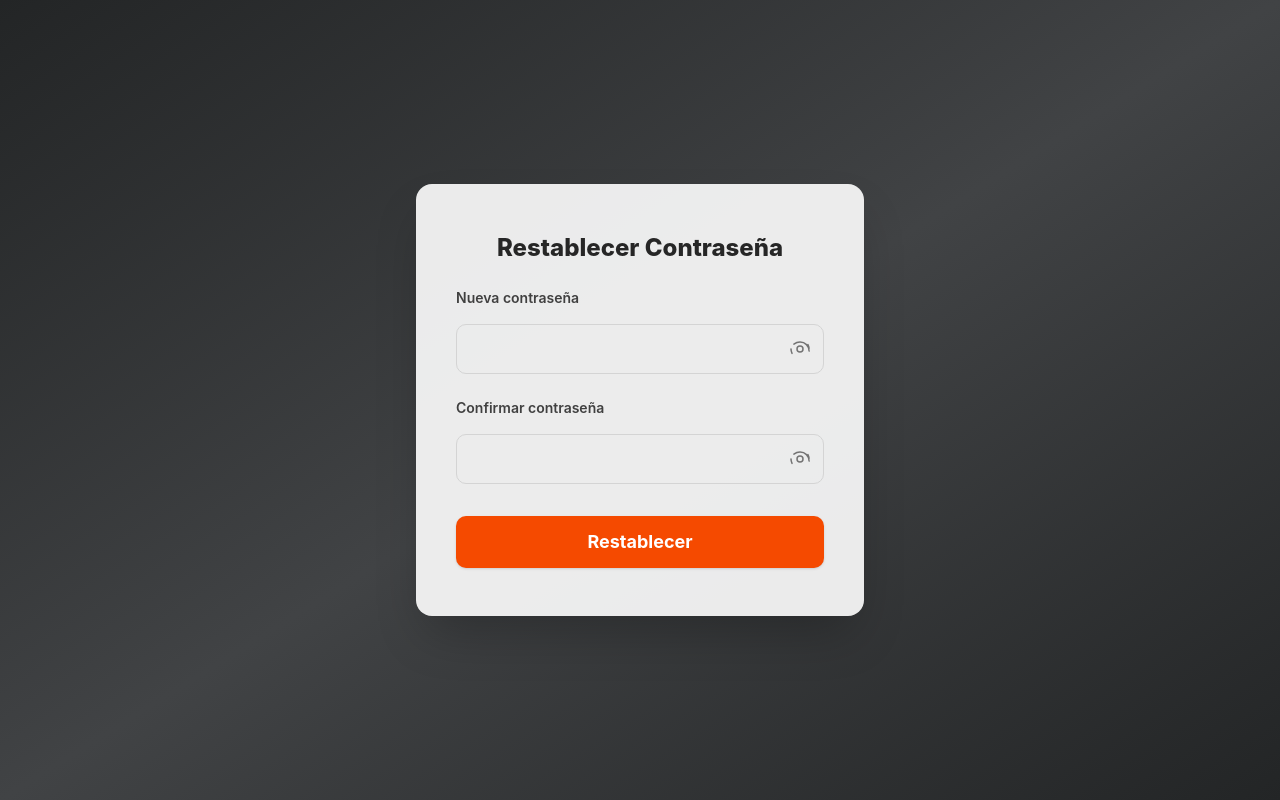
Test: ResetPassword › shows error when token is missing
In the password field labelled "Nueva contraseña": x=640, y=349 [456,324,824,374], type "newPassword123"
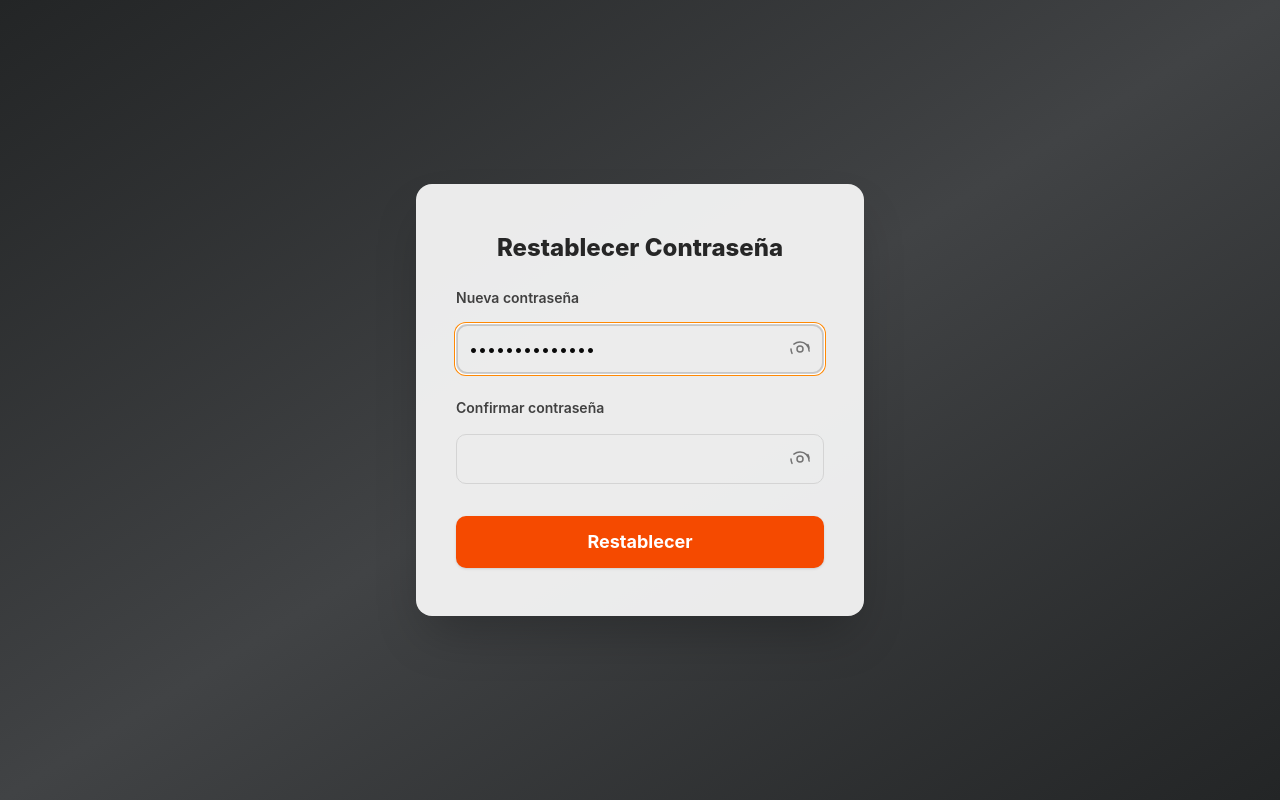
In the password field labelled "Confirmar contraseña": x=640, y=459 [456,434,824,484], type "newPassword123"
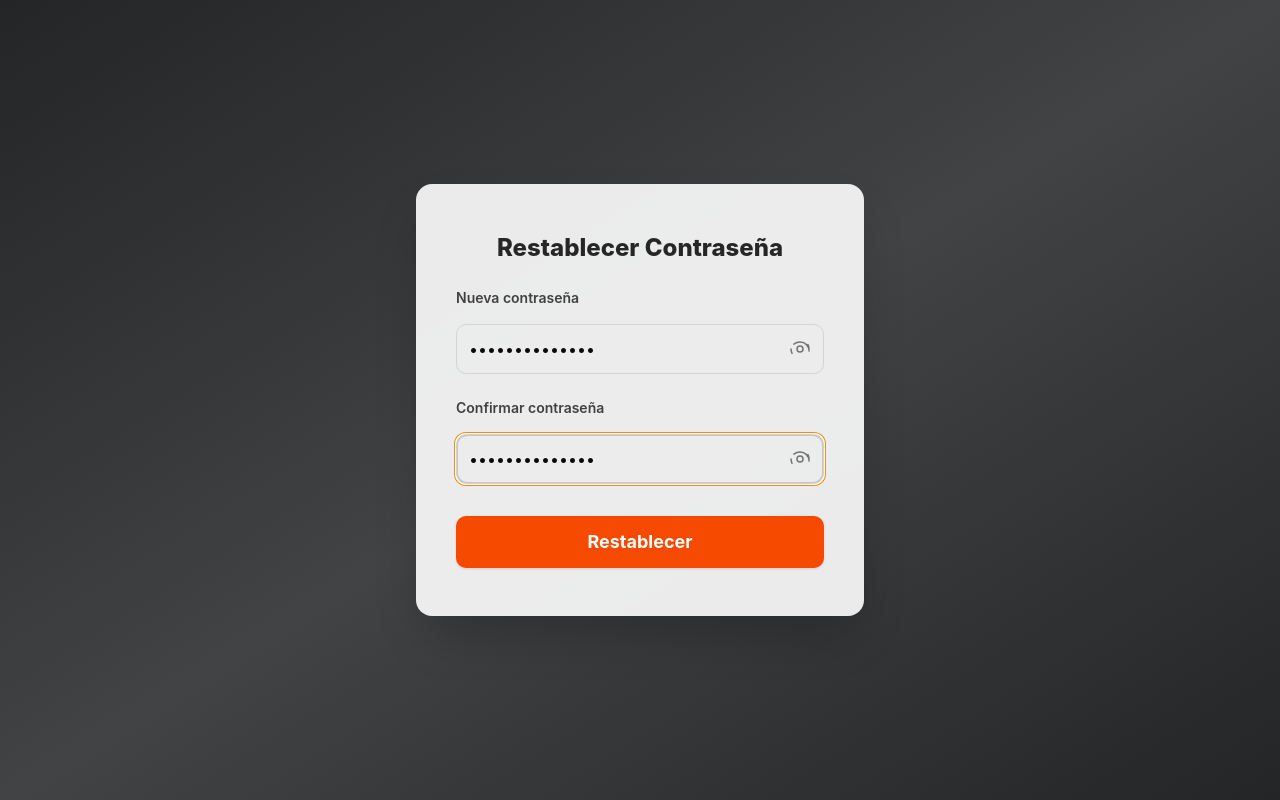
Click the button "Restablecer": x=640, y=542 [456,516,824,568]
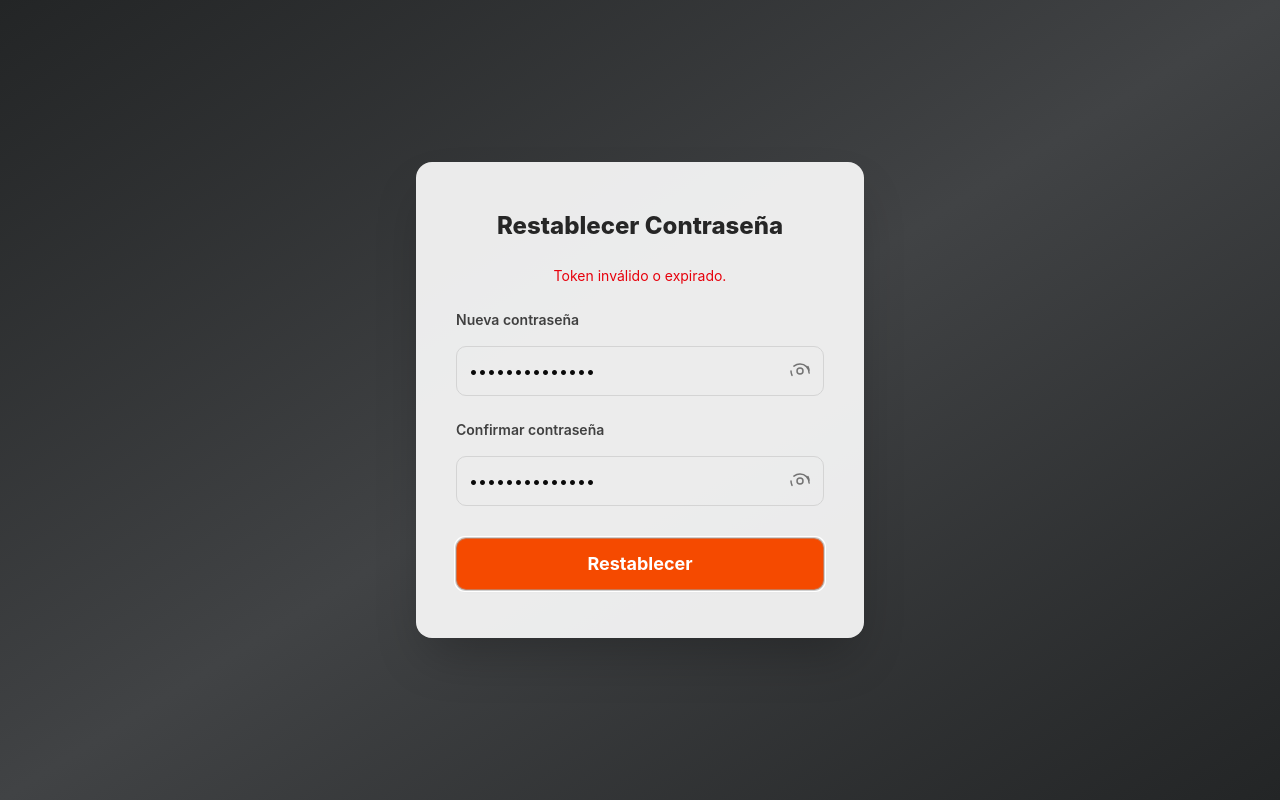
Now the text "Token inválido o expirado." is shown, box [554,267,726,284]
